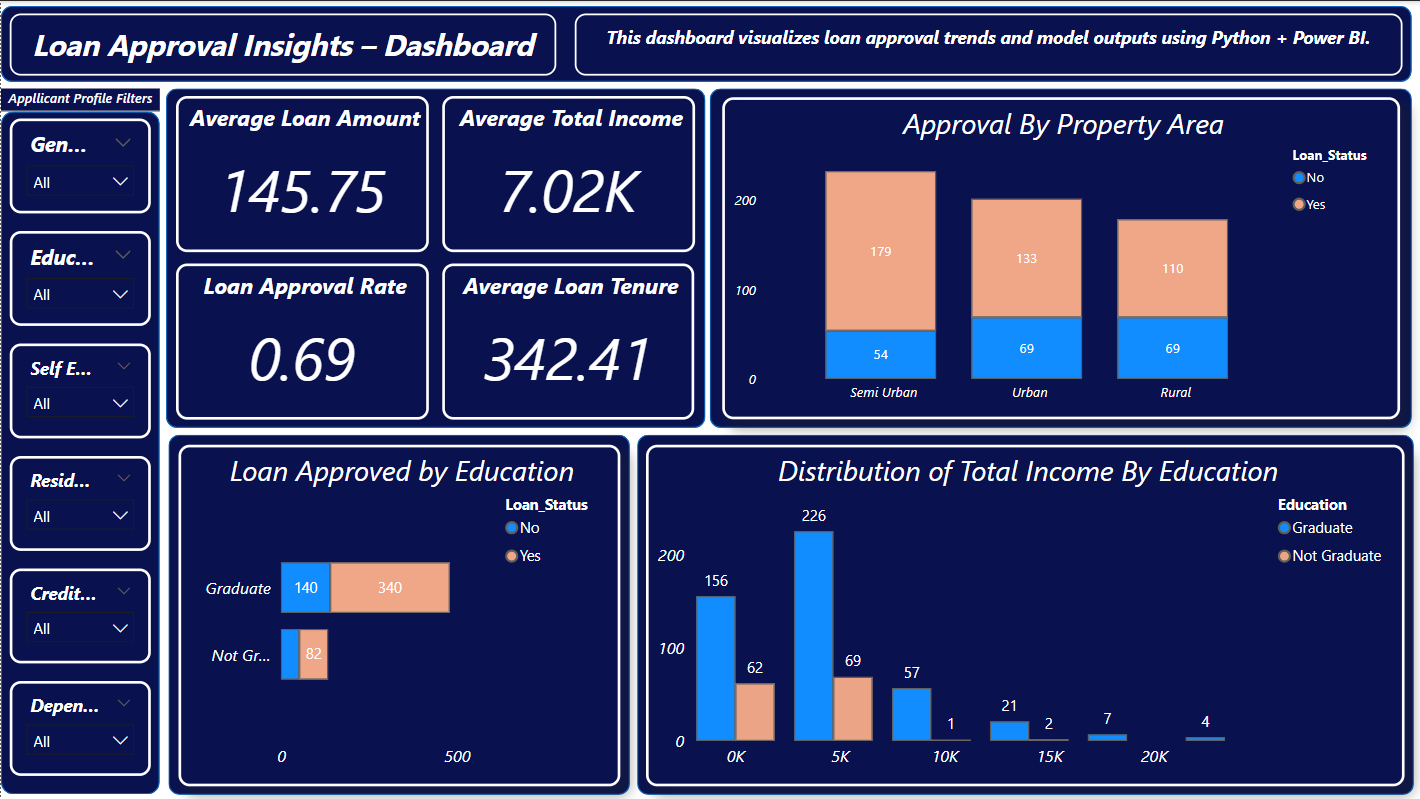

What the dashboard file says about the page in this screenshot:
{"tool":"powerbi","page":{"name":"Loan Approval Insights","canvas":[1280,720],"ordinal":0},"visuals":[{"type":"shape","box":[0,5,1272,68.4],"z":0},{"type":"textbox","box":[7.5,11.2,492.6,56],"z":1000},{"type":"shape","title":"Appllicant Profile Filters","box":[0,78.4,143.1,635.7],"z":2000},{"type":"slicer","fields":{"Values":["loandata.Gender"]},"box":[7.9,105.9,127.4,85.4],"z":3000},{"type":"slicer","fields":{"Values":["loandata.Education"]},"box":[7.9,207.4,127.4,85.4],"z":4000},{"type":"slicer","fields":{"Values":["loandata.Property_Area"]},"box":[7.9,410.4,127.4,85.4],"z":5000},{"type":"slicer","fields":{"Values":["loandata.Self_Employed"]},"box":[7.9,308.9,127.4,85.4],"z":6000},{"type":"slicer","fields":{"Values":["loandata.Credit_History"]},"box":[7.9,511.9,127.4,85.4],"z":7000},{"type":"slicer","fields":{"Values":["loandata.Dependents"]},"box":[7.9,613.4,127.4,85.4],"z":8000},{"type":"textbox","box":[517.5,11.2,746.4,56],"z":9000},{"type":"shape","box":[149.3,78.4,486.4,306],"z":9000,"group":"g1"},{"type":"group","id":"g1","title":"Group 1","box":[149.3,78.4,486.4,306],"z":10000},{"type":"shape","box":[639.4,78.4,633.2,306],"z":10000,"group":"g2"},{"type":"group","id":"g2","title":"Group 2","box":[639.4,78.4,633.2,306],"z":11000},{"type":"shape","box":[150.5,390.6,416,324.7],"z":11000,"group":"g4"},{"type":"group","id":"g3","title":"Group 3","box":[573.5,390.6,700.3,324.7],"z":12000},{"type":"shape","box":[573.5,390.6,700.3,324.7],"z":12000,"group":"g3"},{"type":"card","title":"Average Loan Amount","fields":{"Values":["loandata.Avg_loan_amount"]},"box":[157.8,85.7,228.2,140.4],"z":13000,"group":"g1"},{"type":"group","id":"g4","title":"Group 4","box":[150.5,390.6,416,324.7],"z":13000},{"type":"clusteredColumnChart","title":"Distribution of Total Income By Education","fields":{"Series":["loandata.Education"],"Y":["CountNonNull(loandata.Loan_ID)"],"Category":["loandata.TotalIncome (bins)"]},"box":[581.5,399.2,684.3,307.6],"z":14000,"group":"g3"},{"type":"card","title":"Average Total Income","fields":{"Values":["loandata.Avg_Total_income"]},"box":[397.9,85.7,228.2,140.4],"z":15000,"group":"g1"},{"type":"barChart","title":"Loan Approved by Education","fields":{"Category":["loandata.Education"],"Y":["CountNonNull(loandata.Loan_Status_Num)"],"Series":["loandata.Loan_Status"]},"box":[159.3,399.2,398.2,307.9],"z":16000,"group":"g4"},{"type":"card","title":"Loan Approval Rate","fields":{"Values":["loandata.Loan_Approval_Rate"]},"box":[157.8,236.1,228.2,140.4],"z":17000,"group":"g1"},{"type":"card","title":"Average Loan Tenure","fields":{"Values":["loandata.Avg_Loan_Tenure"]},"box":[397.9,236.4,227.1,140.6],"z":20000,"group":"g1"},{"type":"columnChart","title":"Approval By Property Area","fields":{"Category":["loandata.Property_Area"],"Y":["CountNonNull(loandata.Loan_Status)"],"Series":["loandata.Loan_Status"]},"box":[650.2,86.4,610.8,290.6],"z":20001,"group":"g2"}]}

Visuals, with their boxes in screenshot pixels (x1, y1, x2, y2), scaled from the page's 1280x720 canvas onto the 1420x799 screenshot:
shape: box(0, 6, 1411, 81)
textbox: box(8, 12, 555, 75)
"Appllicant Profile Filters" shape: box(0, 87, 159, 792)
slicer - loandata.Gender: box(9, 118, 150, 212)
slicer - loandata.Education: box(9, 230, 150, 325)
slicer - loandata.Property_Area: box(9, 455, 150, 550)
slicer - loandata.Self_Employed: box(9, 343, 150, 438)
slicer - loandata.Credit_History: box(9, 568, 150, 663)
slicer - loandata.Dependents: box(9, 681, 150, 775)
textbox: box(574, 12, 1402, 75)
shape: box(166, 87, 705, 427)
"Group 1" group: box(166, 87, 705, 427)
shape: box(709, 87, 1412, 427)
"Group 2" group: box(709, 87, 1412, 427)
shape: box(167, 433, 628, 794)
"Group 3" group: box(636, 433, 1413, 794)
shape: box(636, 433, 1413, 794)
"Average Loan Amount" card: box(175, 95, 428, 251)
"Group 4" group: box(167, 433, 628, 794)
"Distribution of Total Income By Education" clusteredColumnChart: box(645, 443, 1404, 784)
"Average Total Income" card: box(441, 95, 695, 251)
"Loan Approved by Education" barChart: box(177, 443, 618, 785)
"Loan Approval Rate" card: box(175, 262, 428, 418)
"Average Loan Tenure" card: box(441, 262, 693, 418)
"Approval By Property Area" columnChart: box(721, 96, 1399, 418)
